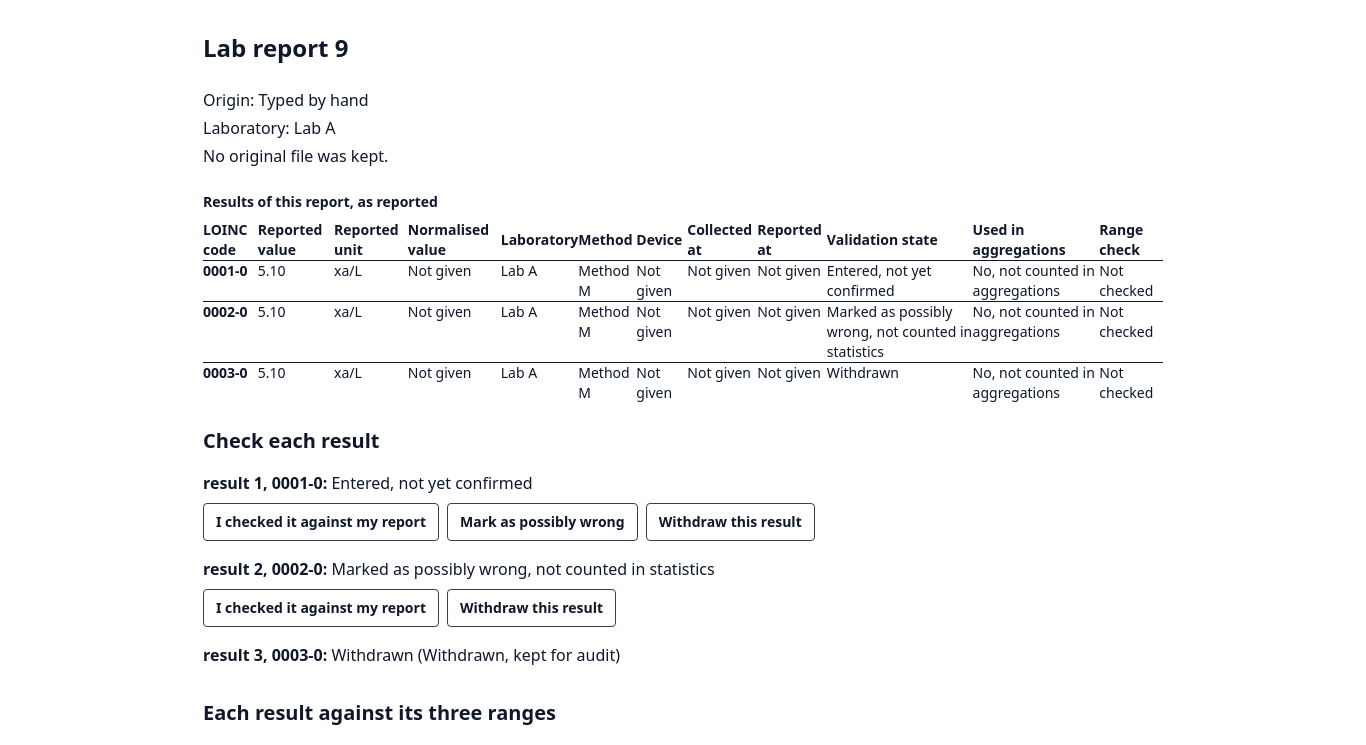
it: a 404 shows a not-found message
Click the button with aria-label "I checked it against my report (result 1,".
click(321, 522)  # box [203,503,439,541]
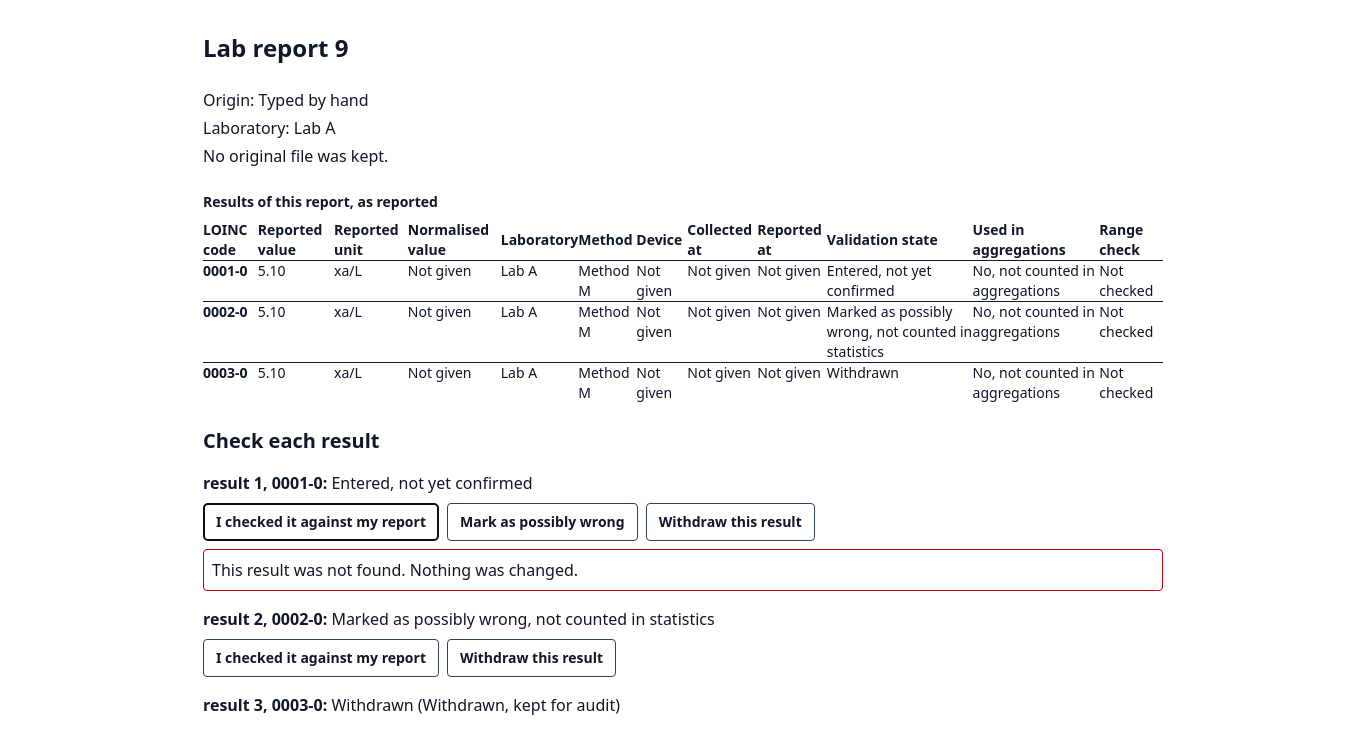
Expected: the text "This result was not found. Nothing was changed." is shown, [203,549,1163,591]
